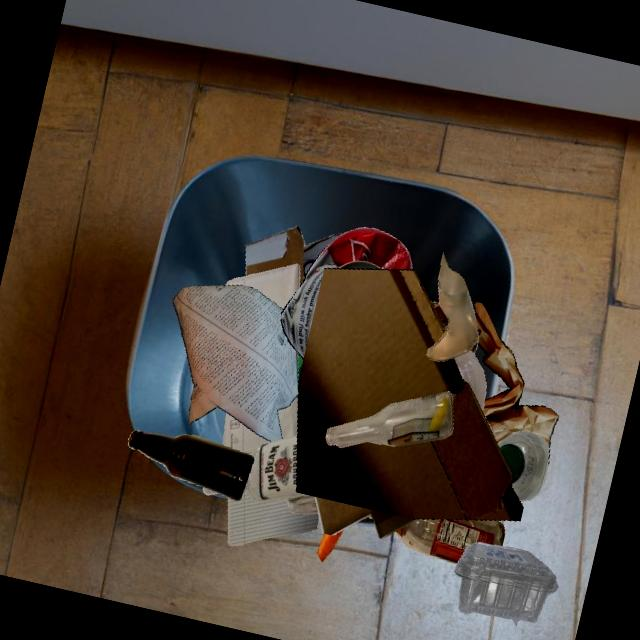biowaste: (317, 529, 343, 561)
cardboard: (296, 268, 523, 520), (245, 226, 342, 287), (314, 497, 417, 538), (469, 328, 480, 354), (429, 301, 440, 307)
glass: (128, 430, 254, 501), (325, 391, 452, 447), (425, 252, 478, 361), (394, 518, 504, 564), (243, 435, 305, 502), (287, 495, 318, 514)
metal: (280, 227, 412, 359)
paper: (172, 285, 298, 441), (473, 302, 558, 465), (242, 285, 297, 437), (227, 491, 318, 545), (225, 264, 299, 310)
plastic: (453, 542, 558, 626), (497, 430, 548, 501), (466, 350, 486, 411), (297, 352, 303, 392)
